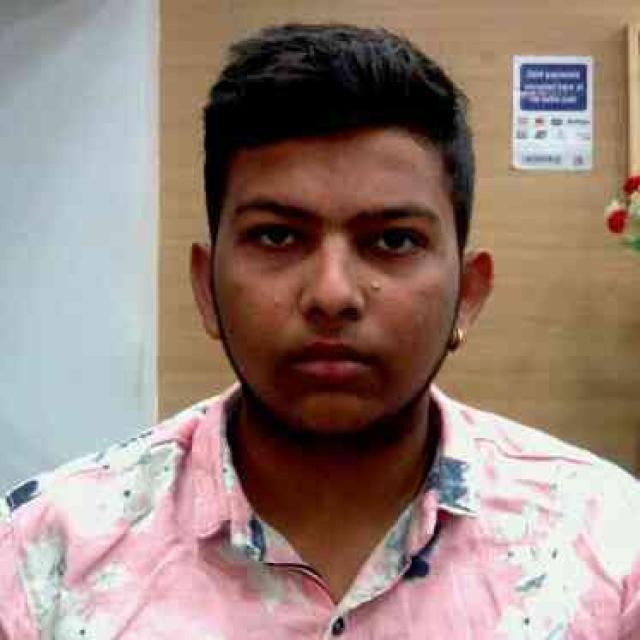Puffy Eyes - v3 Dark Circle: (252, 224, 324, 272), (357, 245, 423, 278)
